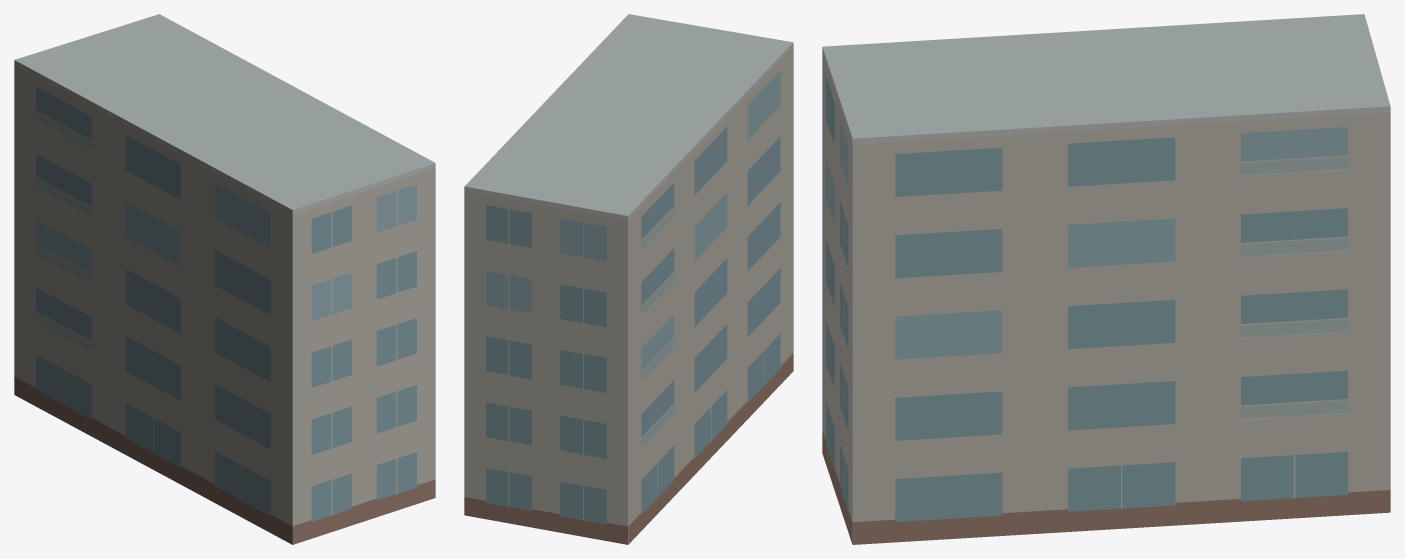
The model's file is survey-upis-32916887.glb.
The picture shows the model from 3 angles, left to right: view 1: azimuth 30°, elevation 25°; view 2: azimuth 150°, elevation 25°; view 3: azimuth 270°, elevation 25°; orthographic projection. The views are drawn at different scales.
Visible parts, largest first — view 1: survey-upis-32916887.tmp; view 2: survey-upis-32916887.tmp; view 3: survey-upis-32916887.tmp.
Part boxes in pixels (left/top/right/bottom): survey-upis-32916887.tmp: left=14, top=14, right=435, bottom=544; survey-upis-32916887.tmp: left=464, top=14, right=793, bottom=544; survey-upis-32916887.tmp: left=822, top=14, right=1390, bottom=544.
Size of the model in its own units: 10.47 by 15.9 by 20.17.
